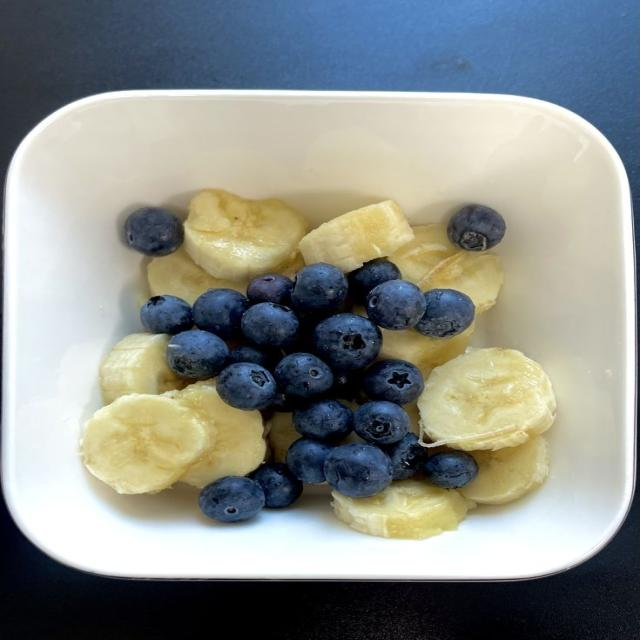banana slice: (418, 348, 555, 450), (82, 394, 209, 494), (183, 189, 307, 280), (170, 381, 266, 488), (333, 479, 475, 539), (299, 201, 413, 272), (98, 333, 192, 404), (460, 437, 549, 504), (147, 248, 246, 304), (379, 323, 475, 377), (421, 251, 502, 314), (388, 223, 457, 284)
blueberry: (314, 314, 382, 370), (324, 443, 392, 498), (167, 330, 229, 380), (199, 476, 265, 522), (366, 280, 425, 330), (415, 289, 474, 338), (216, 363, 276, 410), (125, 208, 183, 256), (292, 263, 348, 312), (194, 289, 249, 338), (448, 204, 505, 251), (364, 360, 424, 404), (293, 399, 353, 442), (275, 353, 332, 397), (242, 303, 298, 347), (354, 401, 410, 444), (348, 258, 401, 303), (251, 463, 303, 508), (286, 438, 333, 484), (421, 451, 478, 488), (141, 296, 194, 334), (384, 433, 426, 479), (283, 312, 328, 353), (230, 344, 282, 370), (248, 275, 293, 305), (330, 370, 362, 401), (269, 389, 303, 412)
